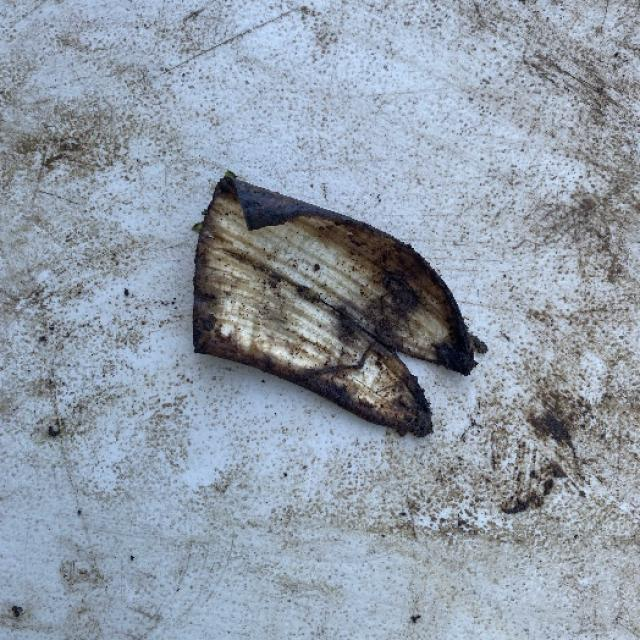organik: (183, 171, 468, 438)
